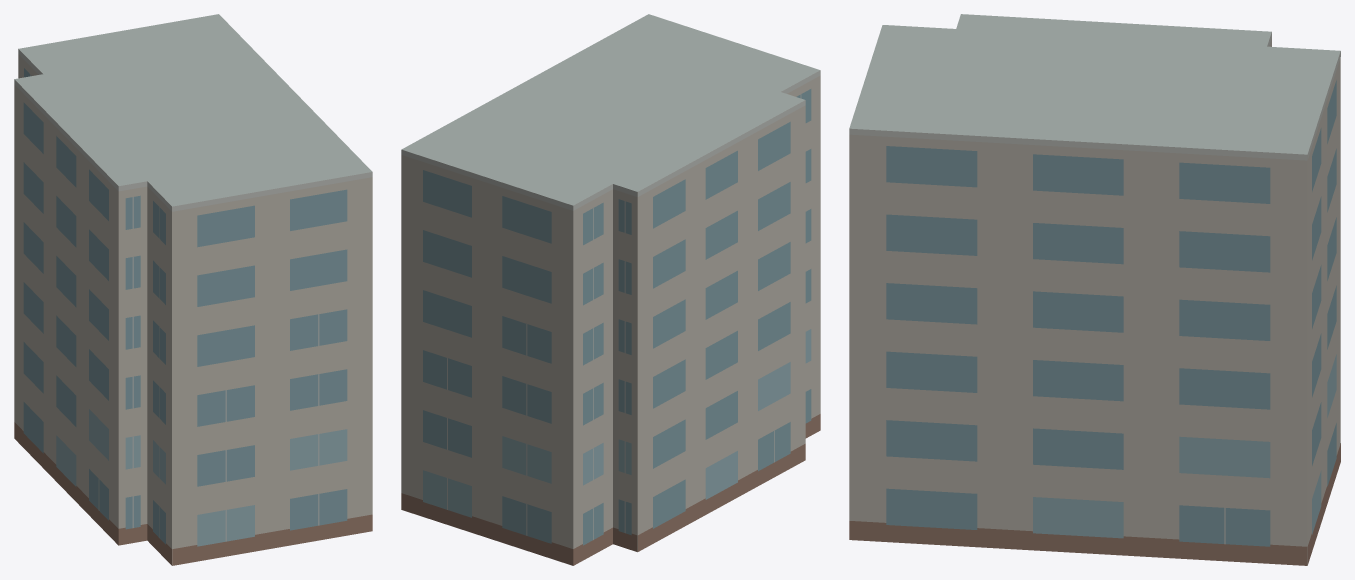
Rendered from survey-upis-33010324.glb.
The picture shows the model from 3 angles, left to right: view 1: azimuth 30°, elevation 25°; view 2: azimuth 150°, elevation 25°; view 3: azimuth 270°, elevation 25°; orthographic projection. The views are drawn at different scales.
Parts seen in each view (by area): view 1: survey-upis-33010324.tmp; view 2: survey-upis-33010324.tmp; view 3: survey-upis-33010324.tmp.
Boxes of the visible parts, <box> form: survey-upis-33010324.tmp: <box>14,14,372,565</box>; survey-upis-33010324.tmp: <box>401,14,820,565</box>; survey-upis-33010324.tmp: <box>849,14,1340,565</box>.
Bounding box in the file's own units: 12.33 × 16.8 × 18.21.
